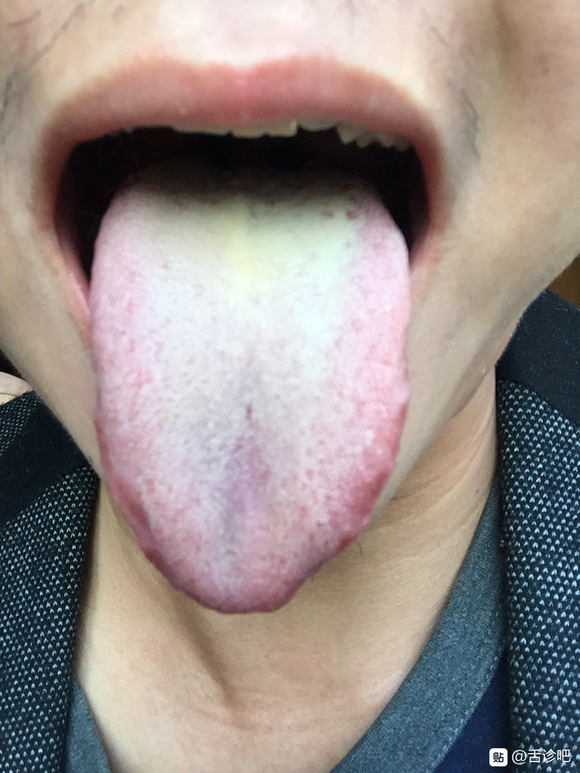chihenshe: (101, 443, 160, 571)
huangtaishe: (90, 154, 411, 614)
